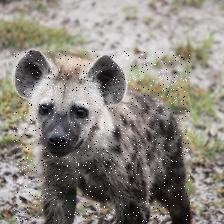hyena: (13, 52, 189, 224)
